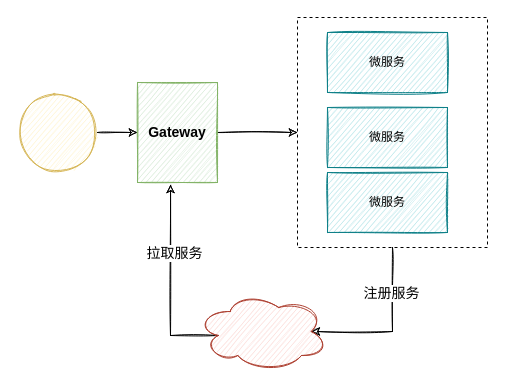
The diagram is 505 pixels wide and 389 high, and some of its shapes have lost their labels. The shapes that lost their labels are listed below. From the top down, each one's centre as x and y in pixels, then its label:
point 57,132: 客户端
point 262,331: Eureka
